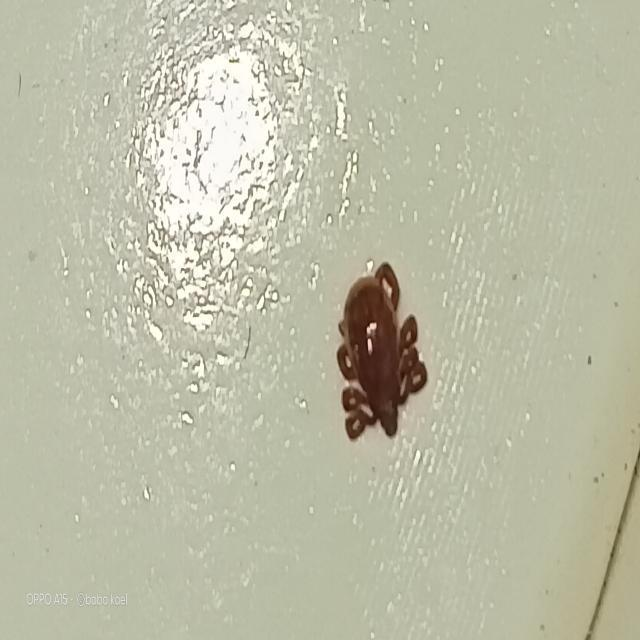Rhipicephalus Sanguineus-M: (334, 264, 430, 442)
